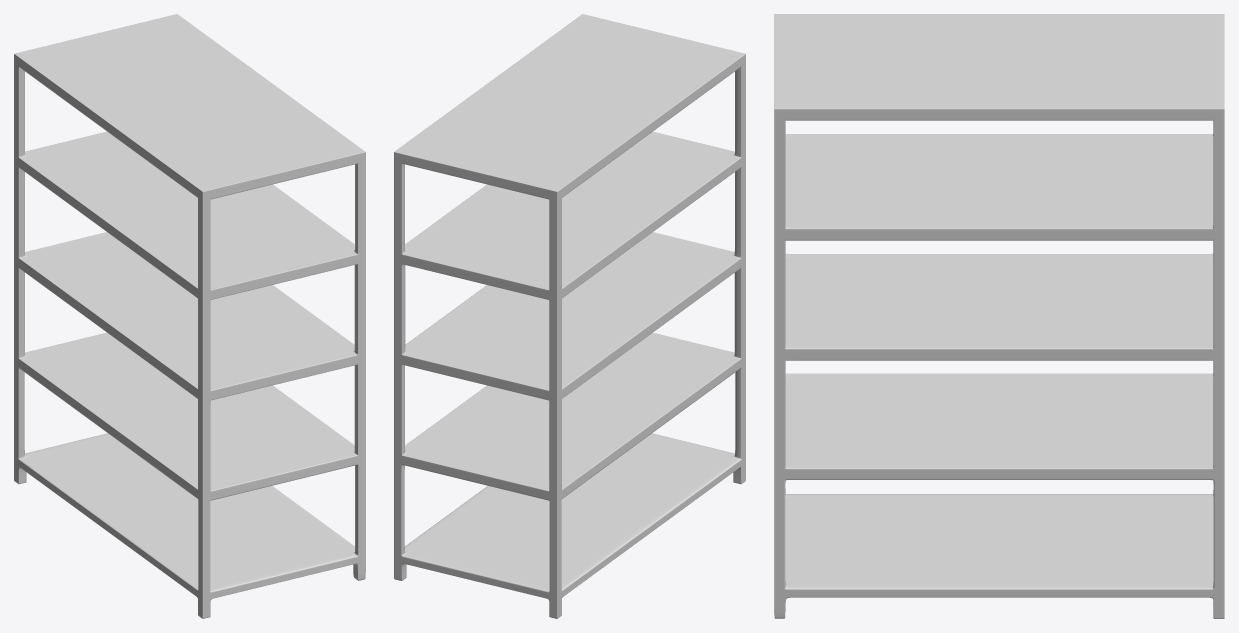
File: Tall_Table.fbx
3 views of the same model, side by side, from view 1: azimuth 30°, elevation 25°; view 2: azimuth 150°, elevation 25°; view 3: azimuth 270°, elevation 25° (orthographic). The views are drawn at different scales.
Visible parts, largest first — view 1: Tall_Table; view 2: Tall_Table; view 3: Tall_Table.
Boxes of the visible parts, bbox=[...] form: Tall_Table: bbox=[14, 14, 365, 618]; Tall_Table: bbox=[394, 14, 745, 618]; Tall_Table: bbox=[774, 14, 1224, 618].
Size of the model in its own units: 1 by 2.5 by 2.
Materials: 1 (1 with a texture image).
